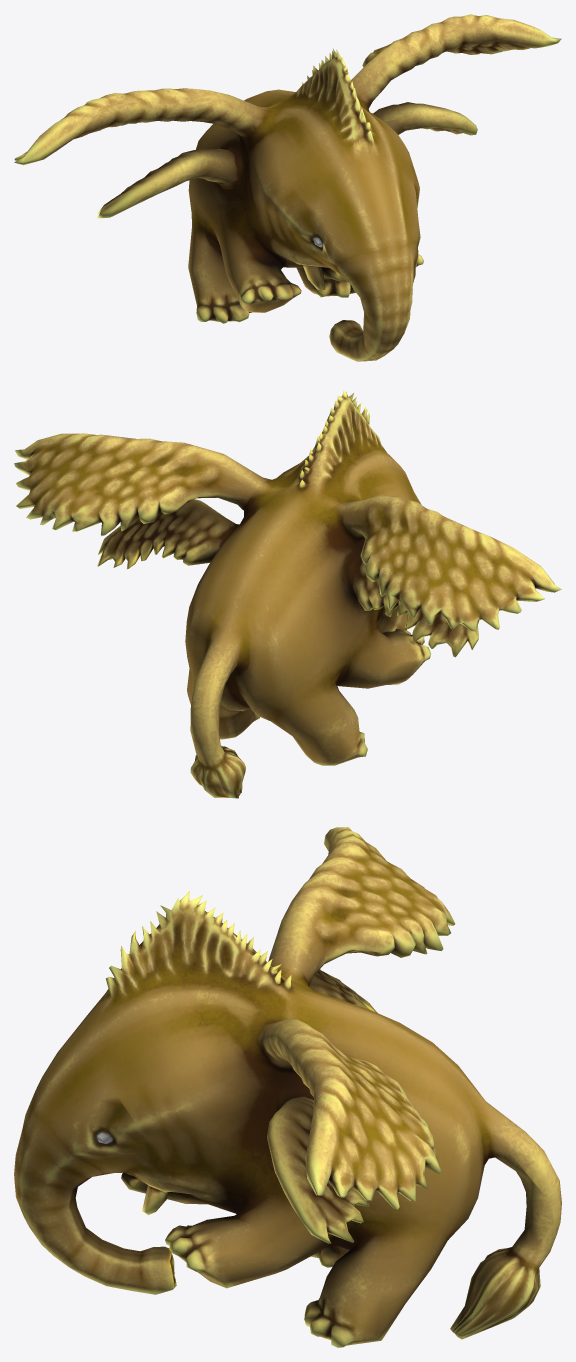
The model's file is MZ4250 - Lulu.glb.
3 renders of one model, top to bottom at view 1: azimuth 30°, elevation 25°; view 2: azimuth 150°, elevation 25°; view 3: azimuth 270°, elevation 25°, orthographic. The views are drawn at different scales.
Visible parts, largest first — view 1: body_low.001; view 2: body_low.001; view 3: body_low.001.
Boxes of the visible parts, x1,y1,x2,y2 form: body_low.001: [14, 14, 561, 361]; body_low.001: [14, 390, 561, 798]; body_low.001: [14, 827, 561, 1347].
Size of the model in its own units: 8.67 by 4.99 by 5.59.
Materials: 1 (1 with a texture image).
